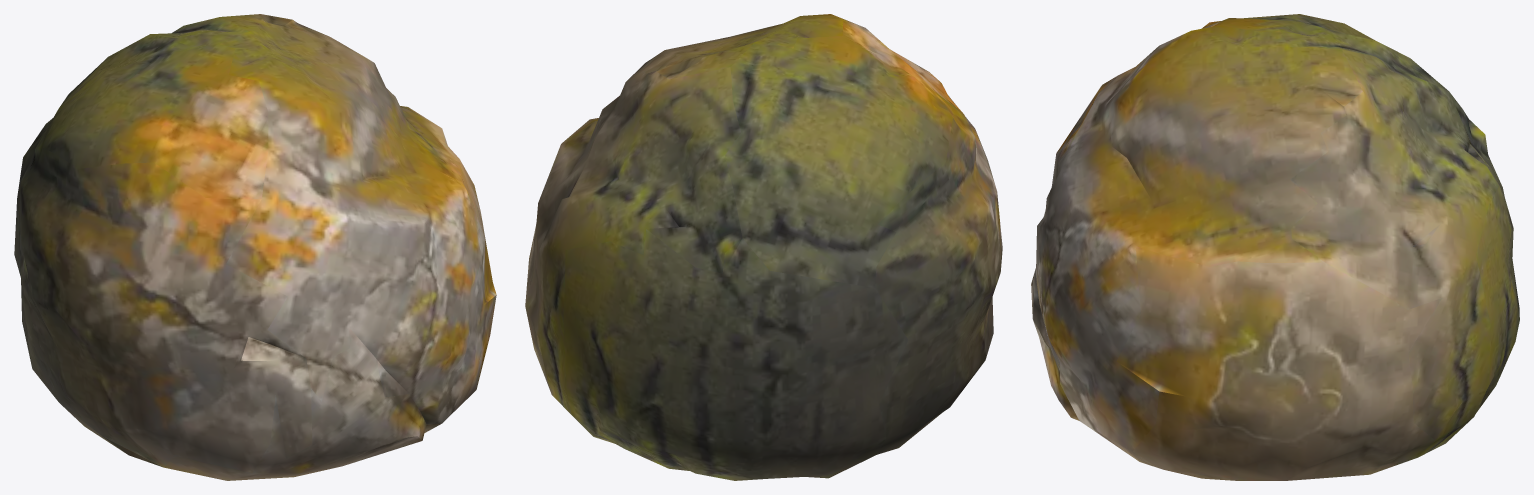
Rendered from boulder-1.phone.glb.
3 renders of one model, left to right at view 1: azimuth 30°, elevation 25°; view 2: azimuth 150°, elevation 25°; view 3: azimuth 270°, elevation 25°, orthographic.
Visible parts, largest first — view 1: boulder-1.raw; view 2: boulder-1.raw; view 3: boulder-1.raw.
Part boxes in pixels (x1,y1,x2,y2): boulder-1.raw: (14, 14, 496, 480); boulder-1.raw: (525, 14, 1002, 480); boulder-1.raw: (1031, 14, 1519, 480).
Bounding box in the file's own units: 1.65 × 1.4 × 1.66.
1 material, 1 textured.
